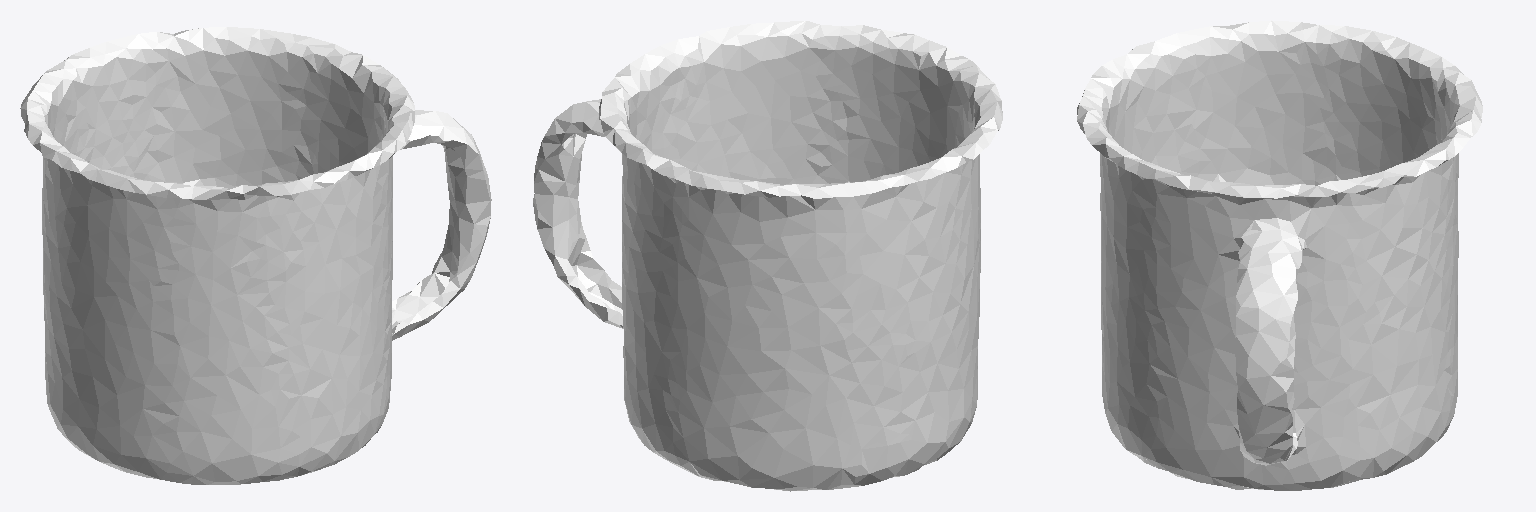
The robot description file, URDF, robot "mug":
<?xml version="1.0" ?>
<robot name="mug">
  <link name="Link">

    <inertial>
      <origin rpy="0 0 0" xyz="-0.017753 0.017167 0.036012"/>
       <mass value="0.3010"/>


       <inertia ixx="1.1755e-7" ixy="7.6e-10" ixz="3.26e-9"
                iyy="1.3307e-7" iyz="2.92e-7"
                izz="1.7072e-7"/>
    </inertial>
    <visual>
      <origin rpy="0 0 0" xyz="0 0 0"/>
      <geometry>
            <mesh filename="textured2.obj" scale="1 1 1"/>
      </geometry>
        <material name="framemat0">
        <color rgba="1 1 1 1"/>
      </material>
    </visual>

    <collision>
      <geometry>
	 	 <mesh filename="textured2.obj" scale="1 1 1"/>
      </geometry>
    </collision>
  </link>
</robot>

--- Facts derived from the render (not from the file) ---
The picture shows the robot from 3 angles, left to right: view 1: azimuth 30°, elevation 25°; view 2: azimuth 150°, elevation 25°; view 3: azimuth 270°, elevation 25°; orthographic projection.
Model mug with 1 links and 0 joints (none), rooted at Link, posed all joints at 0.
Visible links, largest first — view 1: Link; view 2: Link; view 3: Link.
Link boxes in pixels (left/top/right/bottom): Link: left=20, top=27, right=491, bottom=484; Link: left=533, top=21, right=1002, bottom=491; Link: left=1077, top=20, right=1482, bottom=490.
Size in the robot's own frame: 0.1169 by 0.093 by 0.0818 metres.
1 mesh visuals loaded from 1 distinct referenced files (1 OBJ).